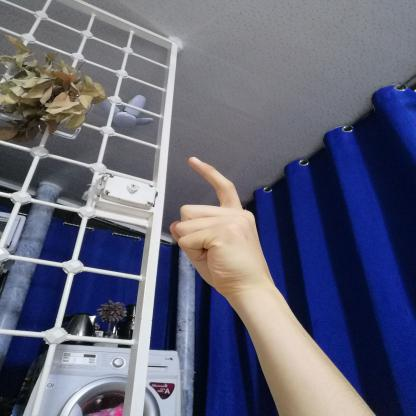RAA: (159, 145, 281, 302)
